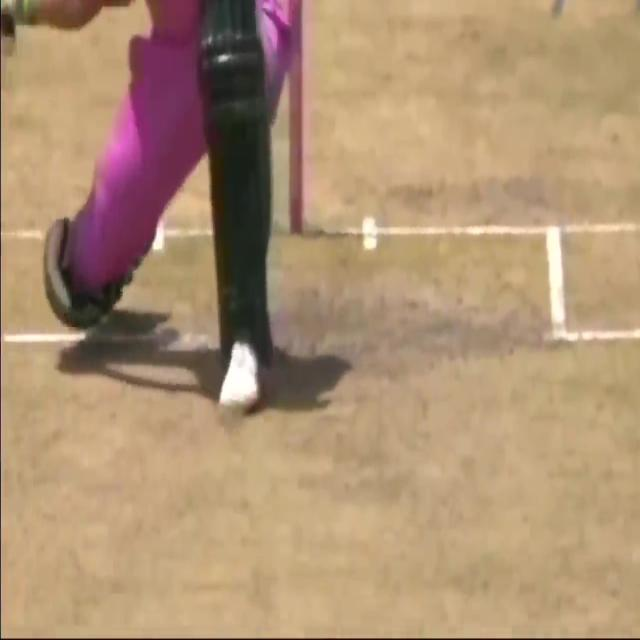Ball: (14, 0, 366, 461)
